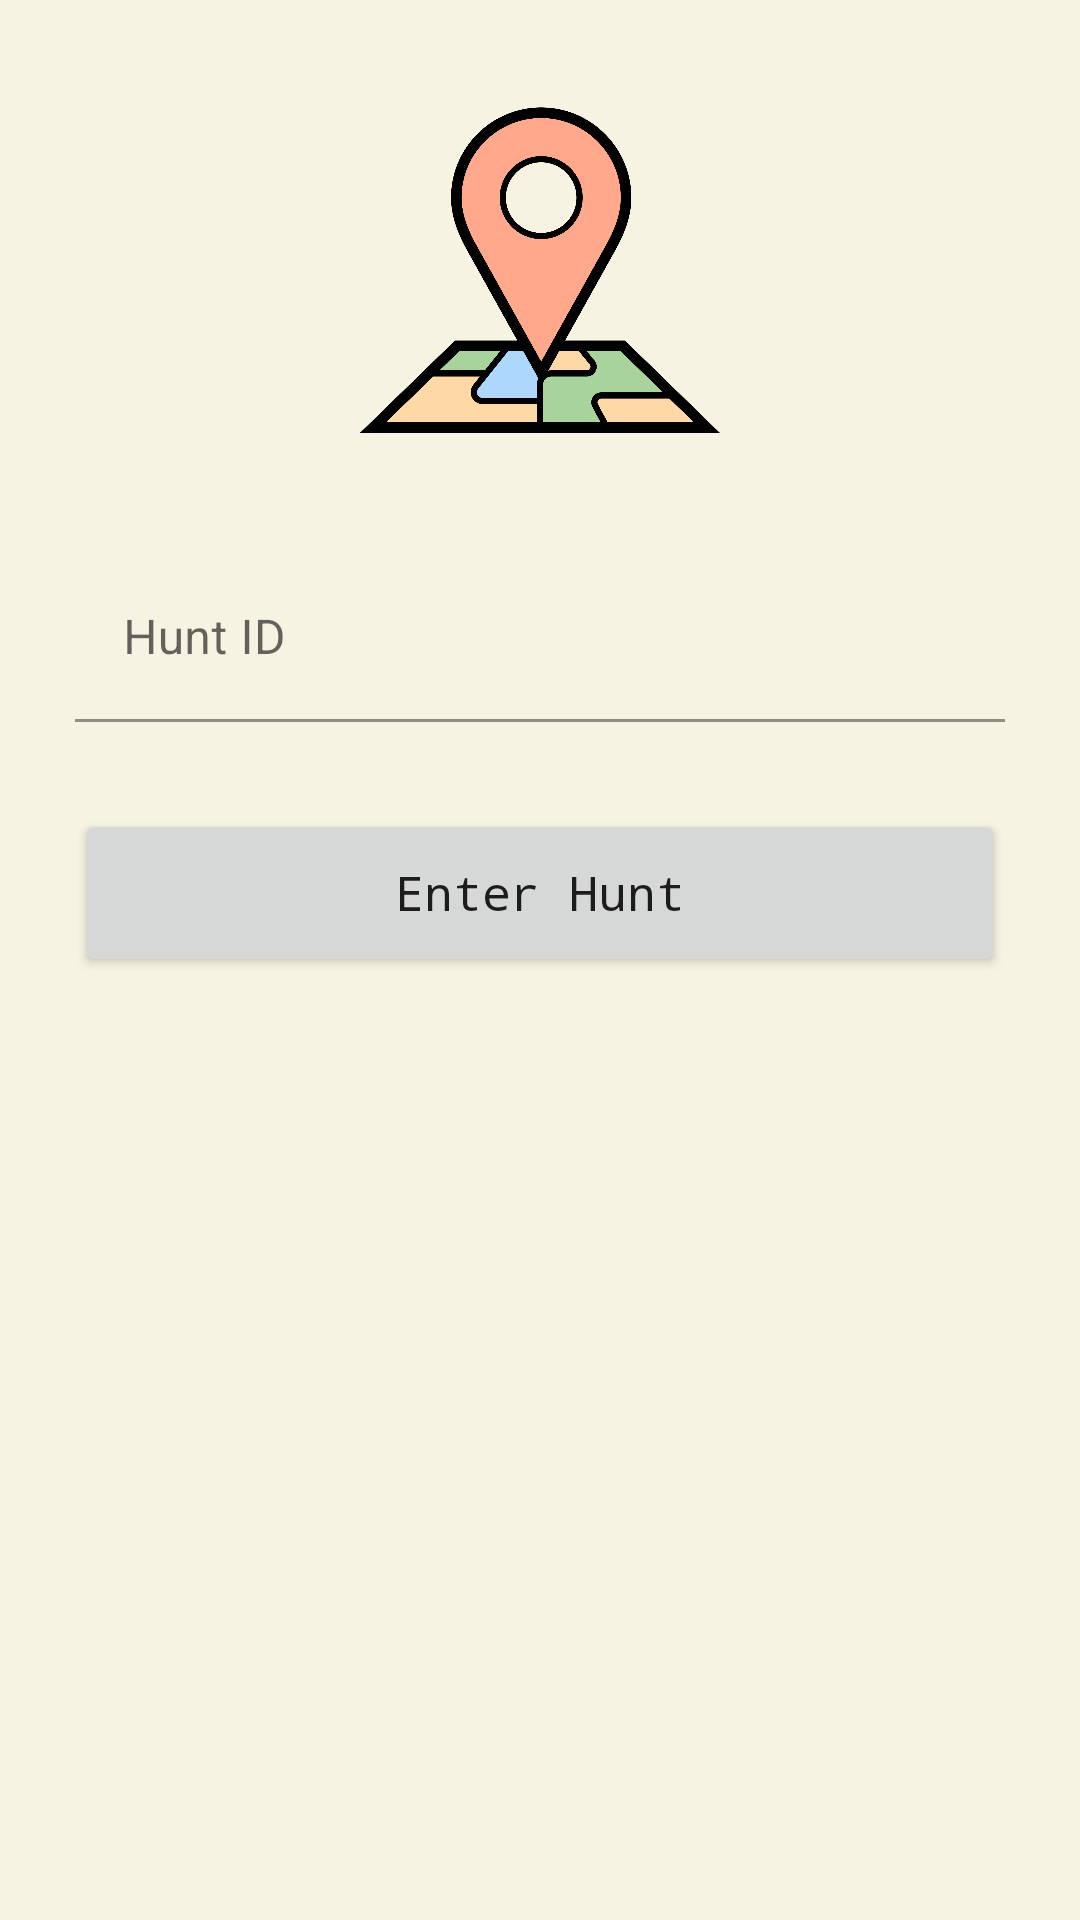

Point at icon controls on the screen. Image size 1080 × 1920, points as [x,y].
map and pin: [540,270]
